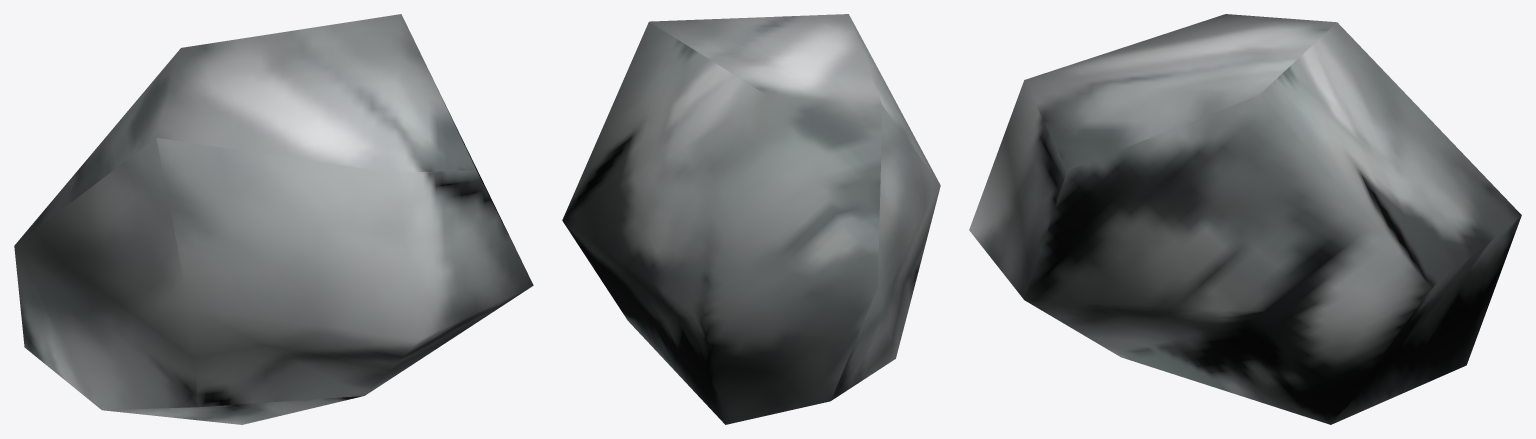
Rendered from PRP_BouldersG.fbx.
3 views of the same model, side by side, from view 1: azimuth 30°, elevation 25°; view 2: azimuth 150°, elevation 25°; view 3: azimuth 270°, elevation 25° (orthographic). The views are drawn at different scales.
Visible parts, largest first — view 1: PRP_BouldersG; view 2: PRP_BouldersG; view 3: PRP_BouldersG.
Part boxes in pixels (x1=…): PRP_BouldersG: x1=14, y1=14, x2=533, y2=424; PRP_BouldersG: x1=562, y1=14, x2=940, y2=424; PRP_BouldersG: x1=969, y1=14, x2=1521, y2=424.
Size of the model in its own units: 30 by 27.21 by 35.54.
Materials: 1 (1 with a texture image).
